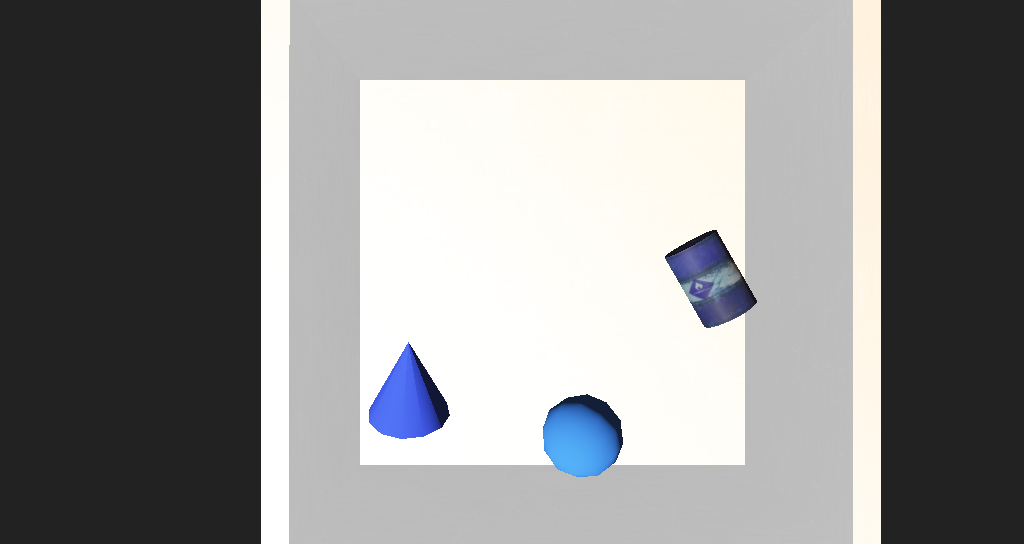cone: (586, 243, 667, 301)
cylinder: (350, 293, 431, 365)
sphere: (492, 336, 559, 379)
